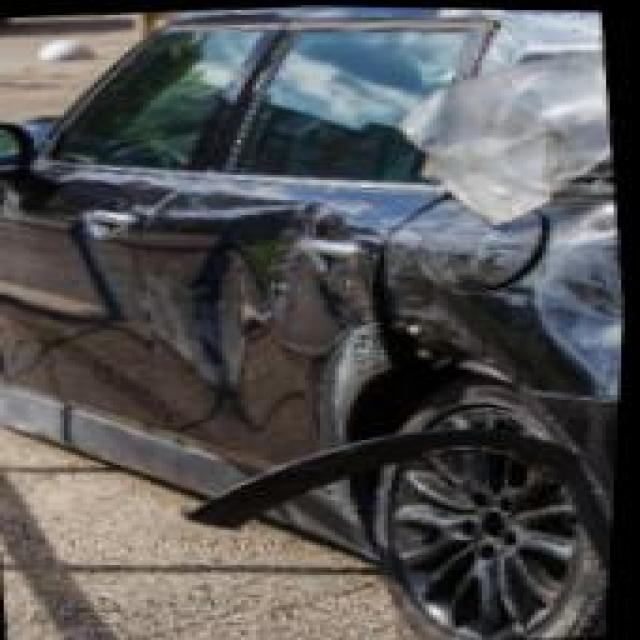Door: (118, 182, 412, 477)
Fender: (391, 177, 626, 518)
